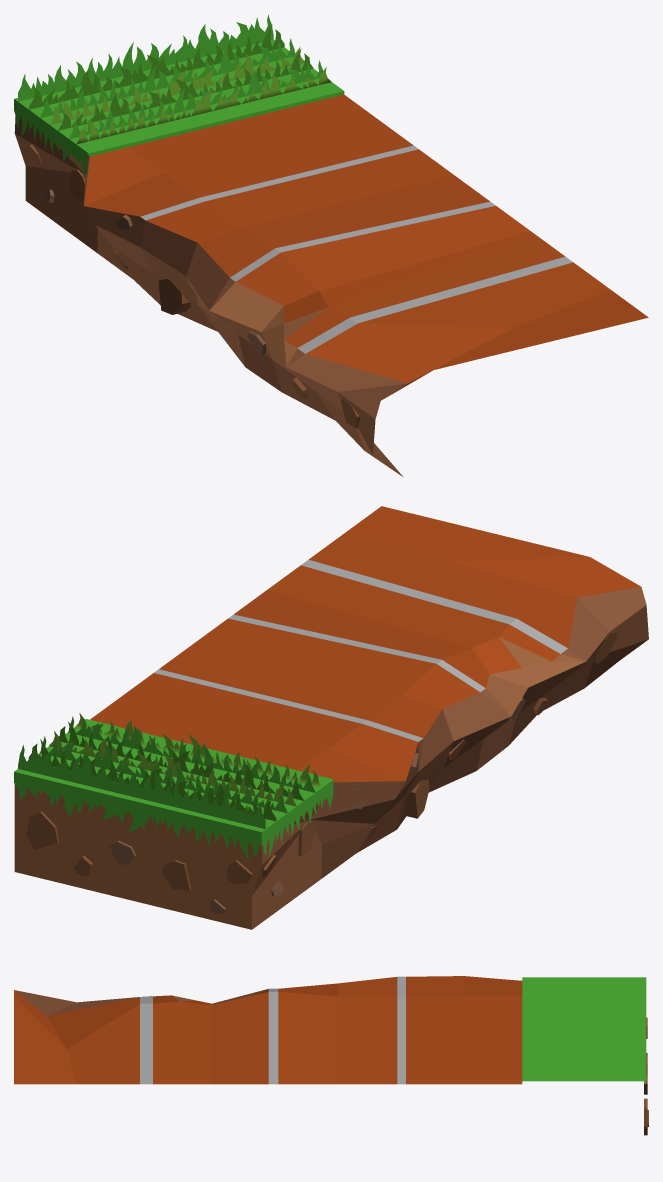
File: ground_side_01.fbx
The picture shows the model from 3 angles, top to bottom: view 1: azimuth 30°, elevation 25°; view 2: azimuth 150°, elevation 25°; view 3: azimuth 270°, elevation 25°; orthographic projection. The views are drawn at different scales.
Visible parts, largest first — view 1: ground_side_01, ground_side_grass_01; view 2: ground_side_01, ground_side_grass_01; view 3: ground_side_01.
Part boxes in pixels (x1,y1,x2,y2): ground_side_01: (14,39,648,477); ground_side_grass_01: (14,15,331,177); ground_side_01: (14,506,648,929); ground_side_grass_01: (14,713,333,861); ground_side_01: (14,976,648,1135).
Size of the model in its own units: 687 by 303 by 1537.
